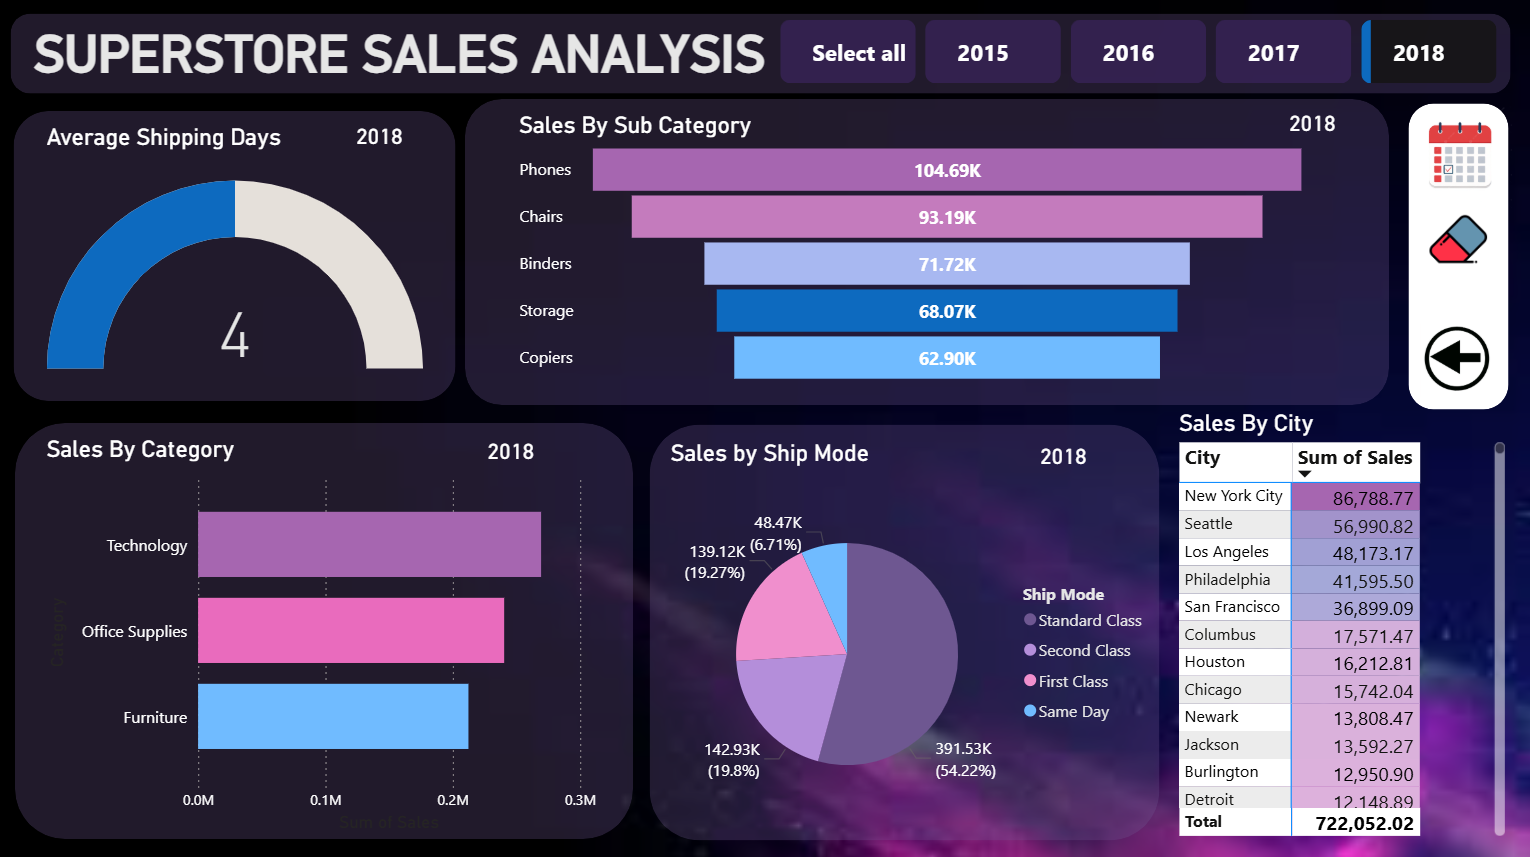

The page's visual inventory and layout, read from the dashboard file:
{"tool":"powerbi","page":{"name":"Dashboard 2","canvas":[1280,720],"ordinal":1},"visuals":[{"type":"shape","box":[11.1,14.3,1250.2,66.8],"z":0},{"type":"actionButton","box":[840,200,50,30],"z":0,"group":"g1"},{"type":"textbox","box":[13.3,16.7,643.3,63.3],"z":1000},{"type":"shape","box":[13.3,95,368.3,241.7],"z":2000},{"type":"gauge","title":"Average Shipping Days","fields":{"Y":["Key Measures.Avg Shipping Days"]},"box":[36.7,105,323.3,230],"z":3000},{"type":"shape","box":[15,355,515,346.7],"z":4000},{"type":"clusteredBarChart","title":"Sales By Category","fields":{"Category":["train.Category"],"Y":["Sum(train.Sales)"]},"box":[36.7,365,468.3,335],"z":5000},{"type":"shape","box":[543.3,356.7,425,346.7],"z":6000},{"type":"pieChart","title":"Sales by Ship Mode ","fields":{"Category":["train.Ship Mode"],"Y":["Sum(train.Sales)"]},"box":[556.7,368.3,411.7,335],"z":7000},{"type":"pivotTable","title":"Sales By City","fields":{"Rows":["train.City"],"Values":["Sum(train.Sales)"]},"box":[980,343.3,281.7,360],"z":8000},{"type":"shape","box":[390,85,770,255],"z":9000},{"type":"funnel","title":"Sales By Sub Category","fields":{"Category":["train.Sub-Category"],"Y":["Sum(train.Sales)"]},"box":[430,95,666.7,231.7],"z":10000},{"type":"shape","box":[1176.7,88.3,83.3,255],"z":11000},{"type":"image","box":[1176,78,86,110],"z":12000},{"type":"group","id":"g1","title":"Group 1","box":[840,200,50,30],"z":13000},{"type":"advancedSlicerVisual","fields":{"Values":["train.Year_Filter"]},"box":[647.4,14.3,610.8,63.6],"z":14000},{"type":"image","box":[1194,174,48,56],"z":15000},{"type":"image","box":[1186,268,62,70],"z":16000},{"type":"actionButton","box":[1194,106,48,40],"z":17000},{"type":"shape","box":[254.5,89.1,127.2,54.1],"z":18001},{"type":"shape","box":[346.8,351.5,163.8,54.1],"z":18002},{"type":"shape","box":[790.5,354.7,197.2,54.1],"z":18003},{"type":"shape","box":[1032.3,77.9,127.2,54.1],"z":18004}]}

Visuals, with their boxes in screenshot pixels (x1, y1, x2, y2), scaled from the page's 1280x720 canvas onto the 1530x857 screenshot:
shape: x1=13, y1=17, x2=1508, y2=97
actionButton: x1=1004, y1=238, x2=1064, y2=274
textbox: x1=16, y1=20, x2=785, y2=95
shape: x1=16, y1=113, x2=456, y2=401
"Average Shipping Days" gauge: x1=44, y1=125, x2=430, y2=399
shape: x1=18, y1=423, x2=634, y2=835
"Sales By Category" clusteredBarChart: x1=44, y1=434, x2=604, y2=833
shape: x1=649, y1=425, x2=1157, y2=837
"Sales by Ship Mode " pieChart: x1=665, y1=438, x2=1158, y2=837
"Sales By City" pivotTable: x1=1171, y1=409, x2=1508, y2=837
shape: x1=466, y1=101, x2=1387, y2=405
"Sales By Sub Category" funnel: x1=514, y1=113, x2=1311, y2=389
shape: x1=1407, y1=105, x2=1506, y2=409
image: x1=1406, y1=93, x2=1508, y2=224
"Group 1" group: x1=1004, y1=238, x2=1064, y2=274
advancedSlicerVisual - train.Year_Filter: x1=774, y1=17, x2=1504, y2=93
image: x1=1427, y1=207, x2=1485, y2=274
image: x1=1418, y1=319, x2=1492, y2=402
actionButton: x1=1427, y1=126, x2=1485, y2=174
shape: x1=304, y1=106, x2=456, y2=170
shape: x1=415, y1=418, x2=610, y2=483
shape: x1=945, y1=422, x2=1181, y2=487
shape: x1=1234, y1=93, x2=1386, y2=157
